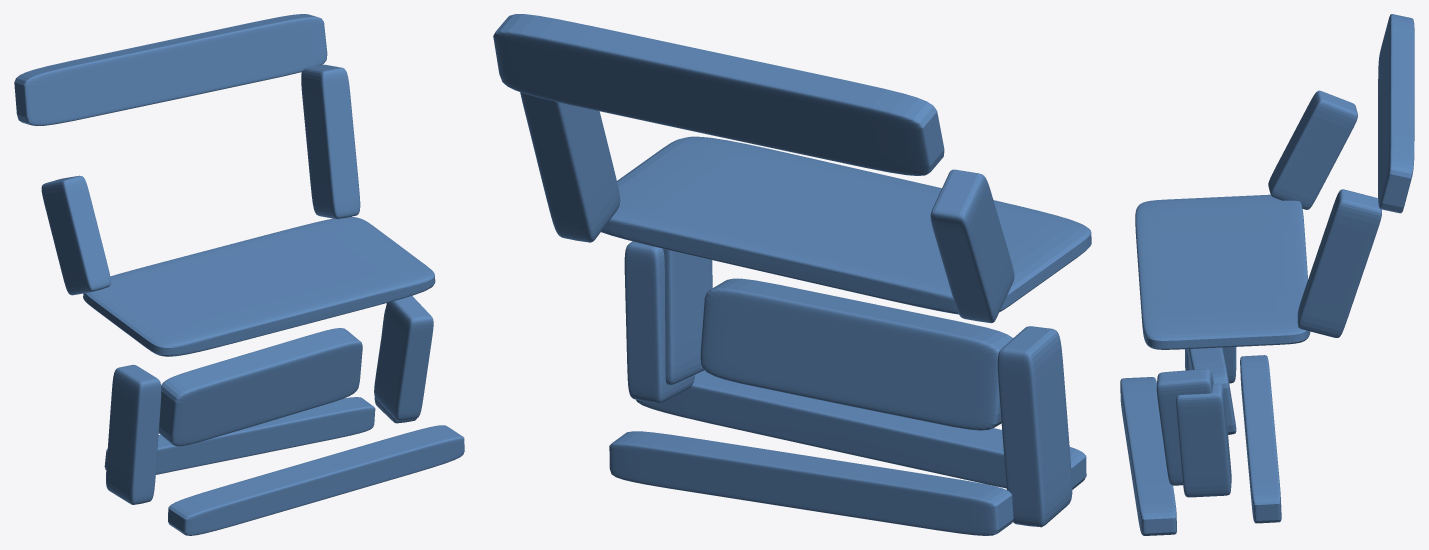
The model's file is edited_abstraction_categorized.glb.
3 views of the same model, side by side, from view 1: azimuth 30°, elevation 25°; view 2: azimuth 150°, elevation 25°; view 3: azimuth 270°, elevation 25° (orthographic). The views are drawn at different scales.
Visible parts, largest first — view 1: world; view 2: world; view 3: world.
Part boxes in pixels (left/top/right/bottom): world: left=14, top=14, right=464, bottom=535; world: left=493, top=14, right=1091, bottom=535; world: left=1120, top=14, right=1414, bottom=535.
Size of the model in its own units: 0.6456 by 0.7147 by 0.5065.
